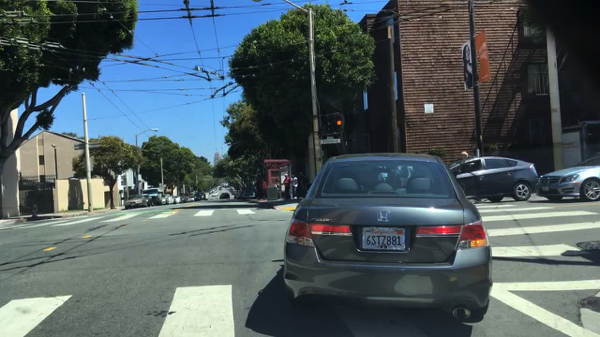car: (281, 151, 494, 324), (446, 157, 538, 201), (533, 152, 599, 201), (124, 194, 145, 208), (138, 194, 153, 205), (193, 191, 207, 202), (241, 189, 256, 198), (157, 194, 168, 205), (218, 193, 231, 200), (166, 195, 175, 204), (174, 195, 184, 203), (185, 194, 193, 202), (234, 190, 240, 198), (210, 192, 218, 197), (228, 186, 234, 192)
person: (288, 175, 300, 202), (283, 172, 291, 199), (260, 178, 267, 198)
traffic light: (333, 112, 344, 135)
traffic sign: (318, 138, 342, 145)
truck: (140, 188, 162, 206)
